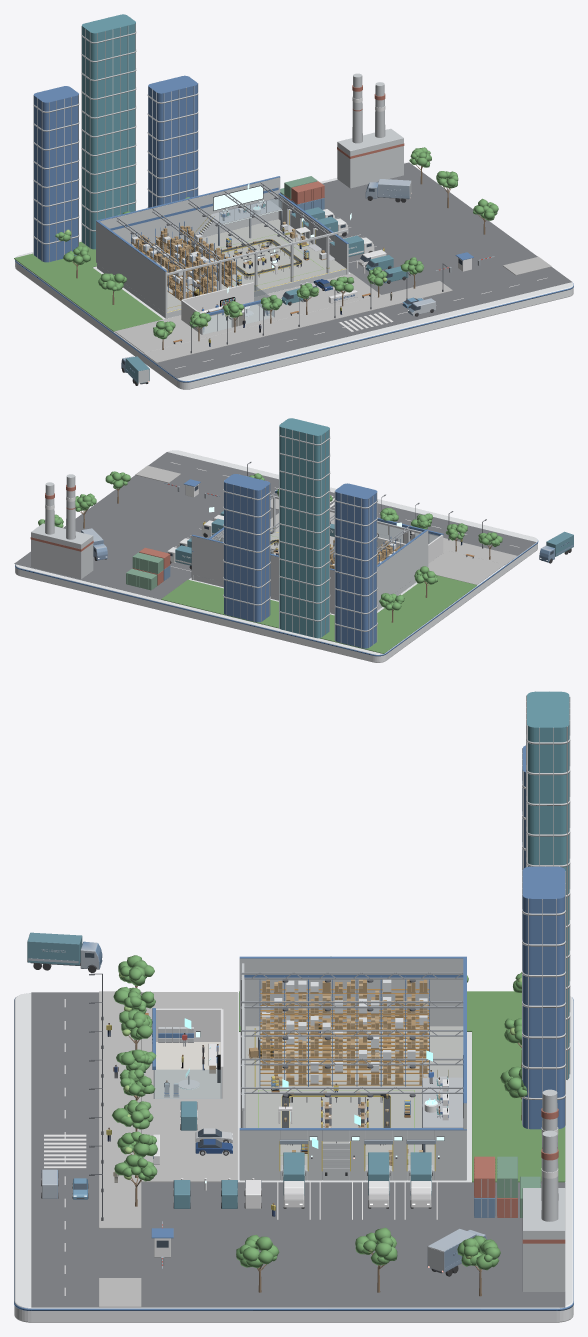
Rendered from smart_logistics.glb.
3 views of the same model, one above another, from view 1: azimuth 30°, elevation 25°; view 2: azimuth 150°, elevation 25°; view 3: azimuth 270°, elevation 25° (orthographic). The views are drawn at different scales.
Parts seen in each view (by area): view 1: bake-static_site, bake-static_building, vbake-static_site, vbake-static_building, bake-hot-pos, bake-hot-transfer-delivery, glass-hot-pos-glass, haul1, vbake-hot-smart-scan, bake-hot-route-optimization, glass-hot-route-optimization-glass, screen-hot-route-optimization-screen_route (+2 smaller); view 2: bake-static_site, bake-static_building, vbake-static_site, bake-hot-transfer-delivery, bake-hot-pos, haul0, vbake-static_building, haul1, glass-hot-pos-glass; view 3: bake-static_site, bake-static_building, vbake-static_site, vbake-static_building, bake-hot-pos, bake-hot-transfer-delivery, haul0, vbake-hot-transfer-delivery, glass-hot-pos-glass, bake-hot-route-optimization, haul1, vbake-hot-smart-scan (+1 smaller).
Part boxes in pixels (<box>): bake-static_site: <box>14,14,573,389</box>; bake-static_building: <box>96,176,348,318</box>; vbake-static_site: <box>55,147,547,368</box>; vbake-static_building: <box>117,184,329,308</box>; bake-hot-pos: <box>181,282,273,334</box>; bake-hot-transfer-delivery: <box>287,207,473,271</box>; glass-hot-pos-glass: <box>203,285,273,334</box>; haul1: <box>365,179,411,202</box>; vbake-hot-smart-scan: <box>222,239,302,279</box>; bake-hot-route-optimization: <box>207,185,281,225</box>; glass-hot-route-optimization-glass: <box>219,198,281,223</box>; screen-hot-route-optimization-screen_route: <box>213,185,262,210</box>; bake-static_site: <box>14,418,538,662</box>; bake-static_building: <box>191,493,428,614</box>; vbake-static_site: <box>38,462,519,622</box>; bake-hot-transfer-delivery: <box>166,479,223,565</box>; bake-hot-pos: <box>377,518,443,563</box>; haul0: <box>539,531,573,563</box>; vbake-static_building: <box>218,497,405,569</box>; haul1: <box>81,528,107,560</box>; glass-hot-pos-glass: <box>377,523,438,543</box>; bake-static_site: <box>14,691,573,1322</box>; bake-static_building: <box>239,956,466,1180</box>; vbake-static_site: <box>44,955,540,1296</box>; vbake-static_building: <box>252,972,462,1165</box>; bake-hot-pos: <box>152,1008,223,1098</box>; bake-hot-transfer-delivery: <box>151,1143,433,1257</box>; haul0: <box>27,932,102,972</box>; vbake-hot-transfer-delivery: <box>161,1136,444,1265</box>; glass-hot-pos-glass: <box>155,1070,221,1098</box>; bake-hot-route-optimization: <box>423,1055,463,1127</box>; haul1: <box>427,1228,487,1276</box>; vbake-hot-smart-scan: <box>278,1083,390,1145</box>.
Bounding box in the file's own units: 96.86 × 48.16 × 66.08.
